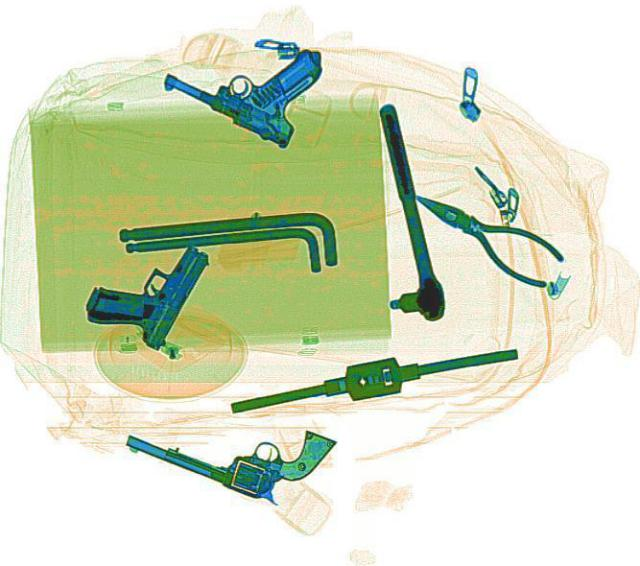Gun: (120, 375, 336, 510), (153, 2, 345, 149), (74, 221, 214, 349)
Pliers: (396, 174, 570, 288)
